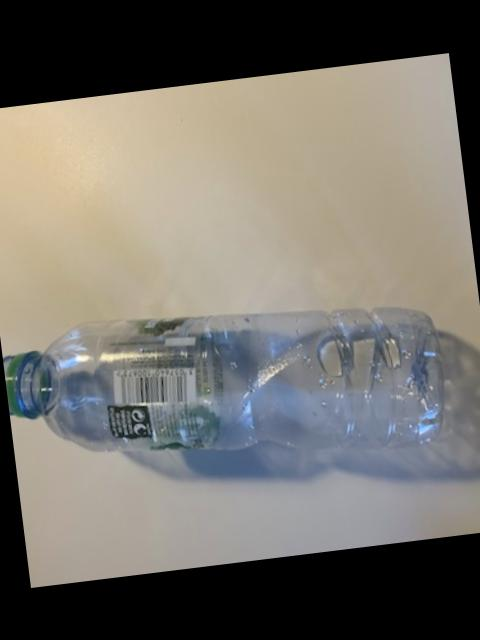plastic: (3, 309, 440, 453)
